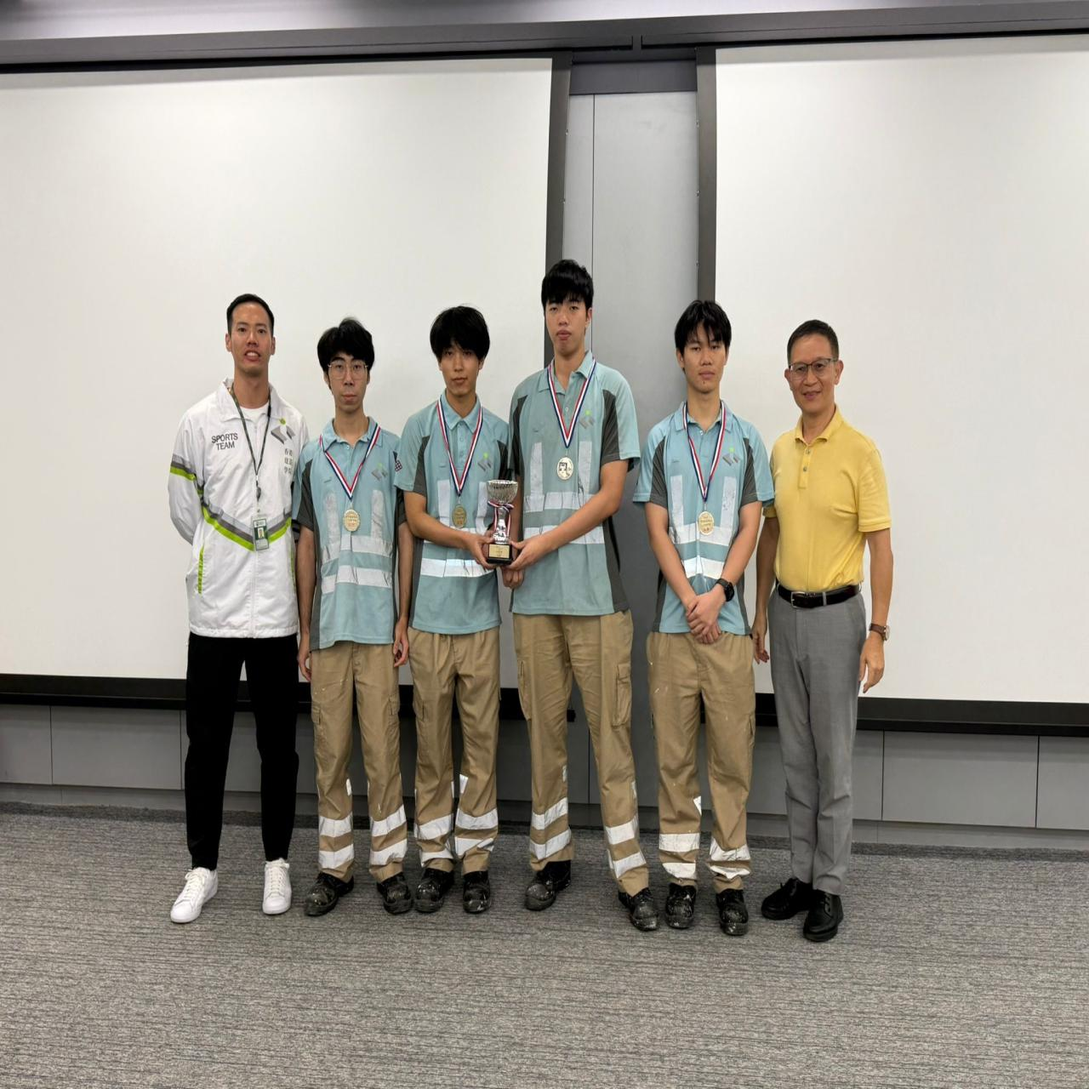NO_Safety_Vest: (516, 363, 628, 614), (183, 394, 295, 636), (639, 417, 756, 635), (299, 420, 407, 655), (403, 404, 503, 633), (767, 425, 892, 600)
Person: (755, 308, 915, 964), (161, 288, 315, 919), (504, 253, 637, 917), (391, 278, 525, 921), (626, 296, 760, 931), (290, 315, 424, 908)
